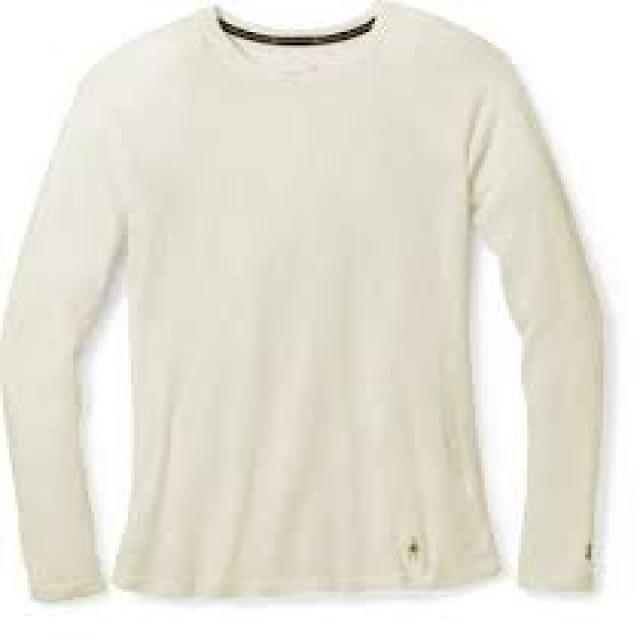plain: (6, 6, 612, 612)
